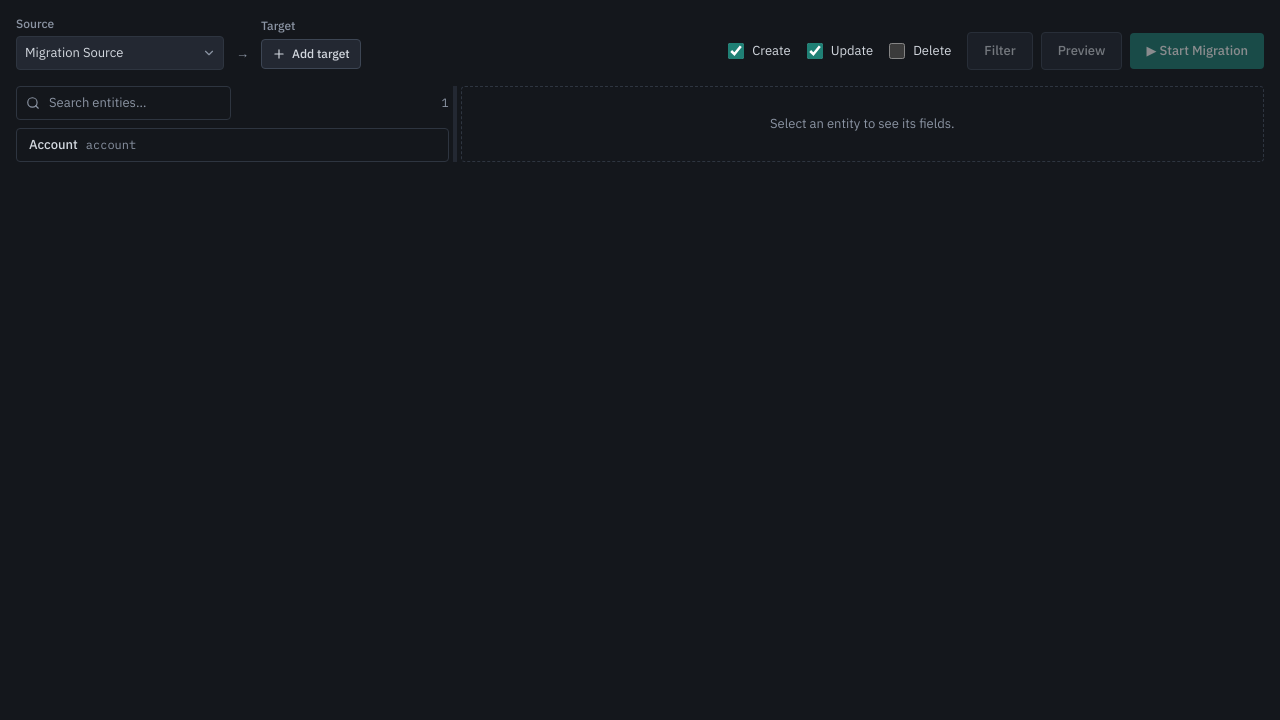
Data Migration › previews action, id, and name for each record with the total to migrate
Press Enter in the button "Add target", box [261,39,361,69]
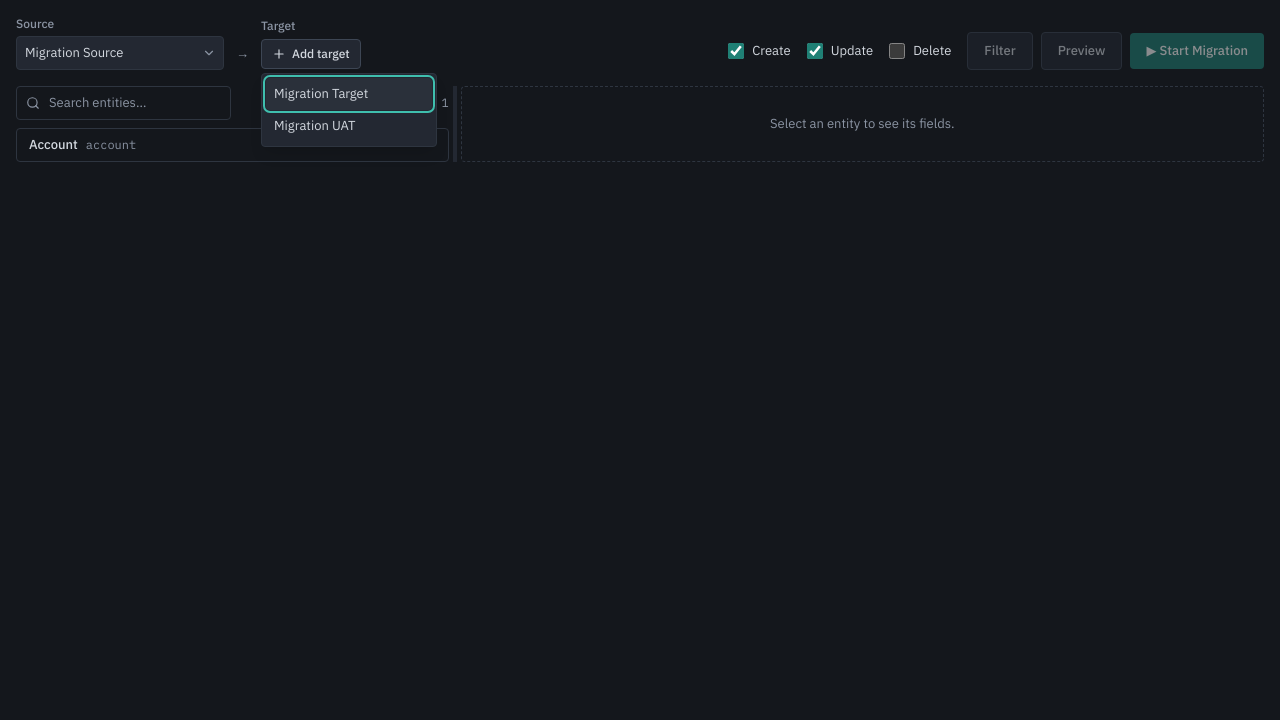
Click the menu item "Migration Target".
click(349, 94)  # box [266,78,432,110]
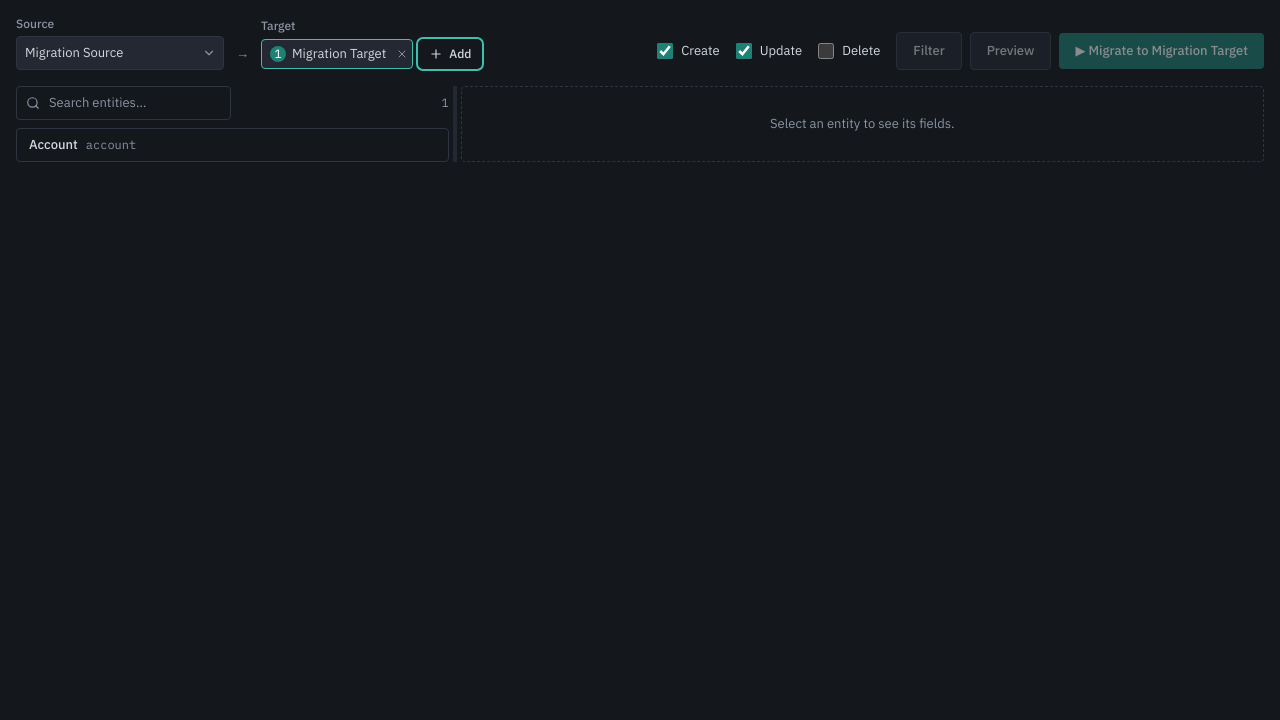
Click the 7th button.
click(53, 144)  # box [17,129,448,161]
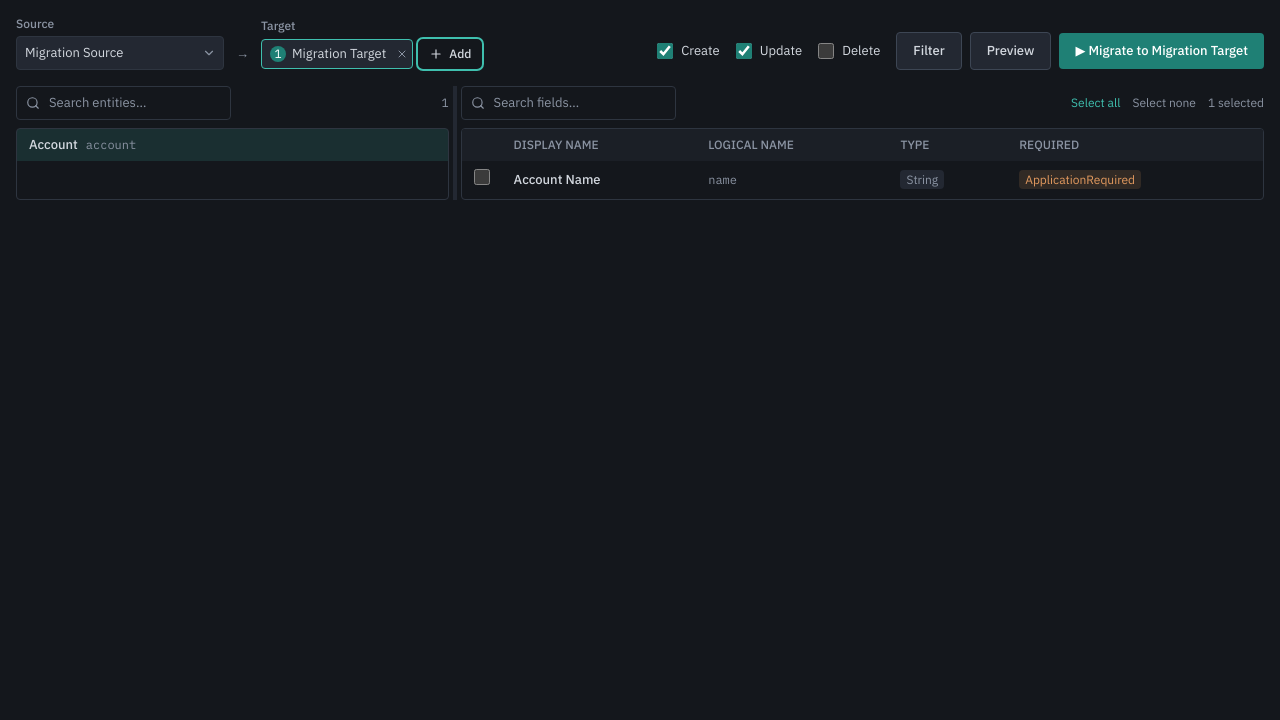
Click the text "Account Name".
click(599, 180)  # box [502,161,696,199]
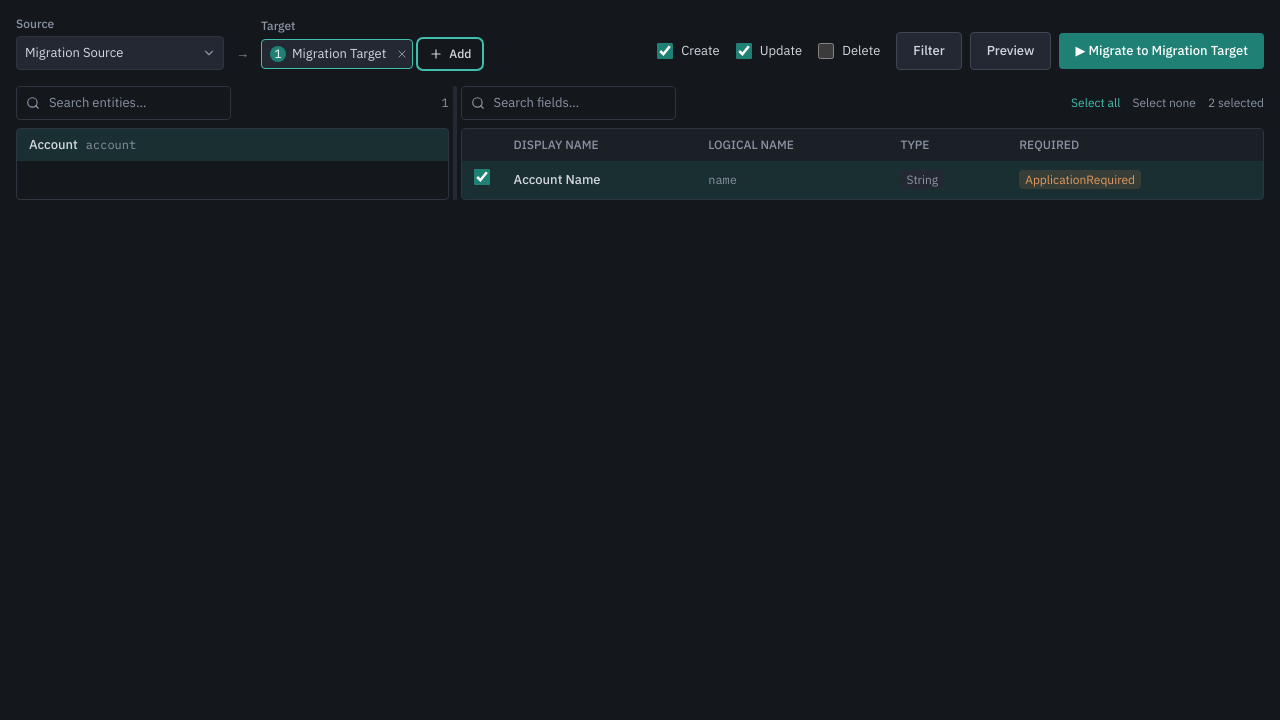
Click the button "Preview".
click(1011, 51)  # box [970,32,1051,70]
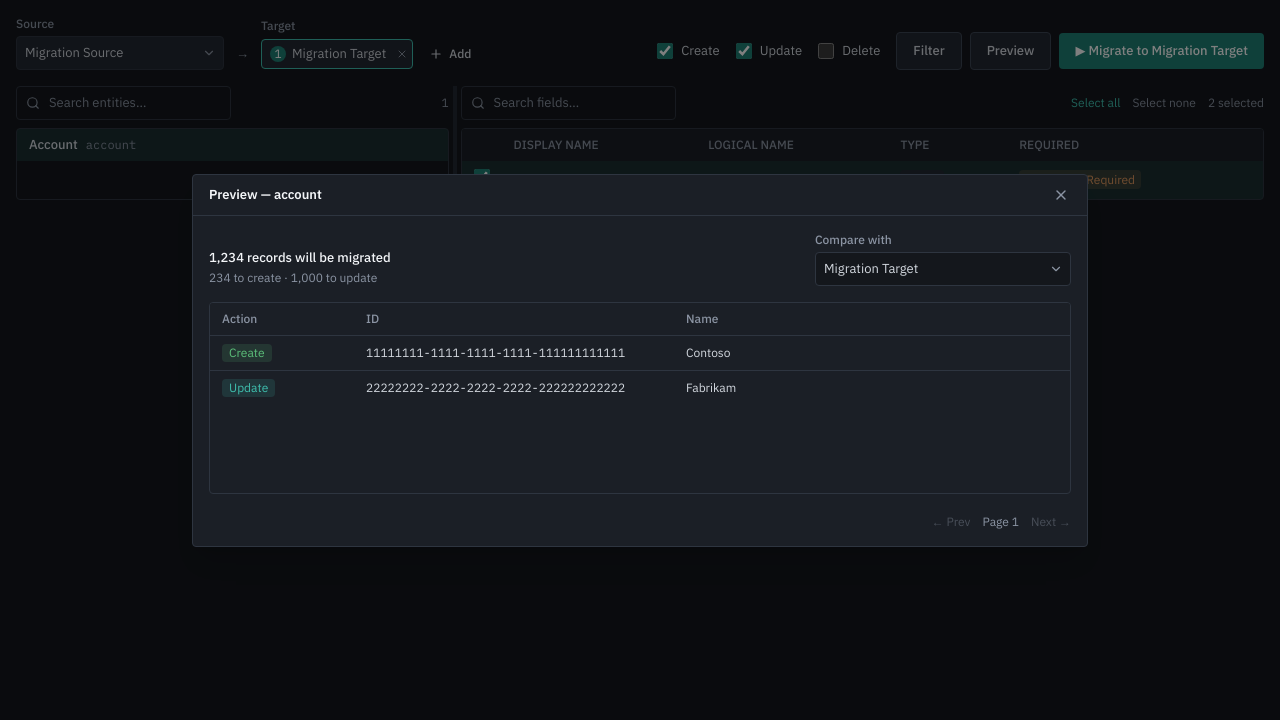
Check: the text "1,234 records will be migrated" is shown, box [209,248,391,268]
Check: the column headings read "Action", "ID", "Name", in this order, box [210,302,354,335]; [354,302,674,335]; [674,302,1070,335]
Check: the dropdown labelled "Compare with" shows "Migration Target", box [815,252,1071,286]
